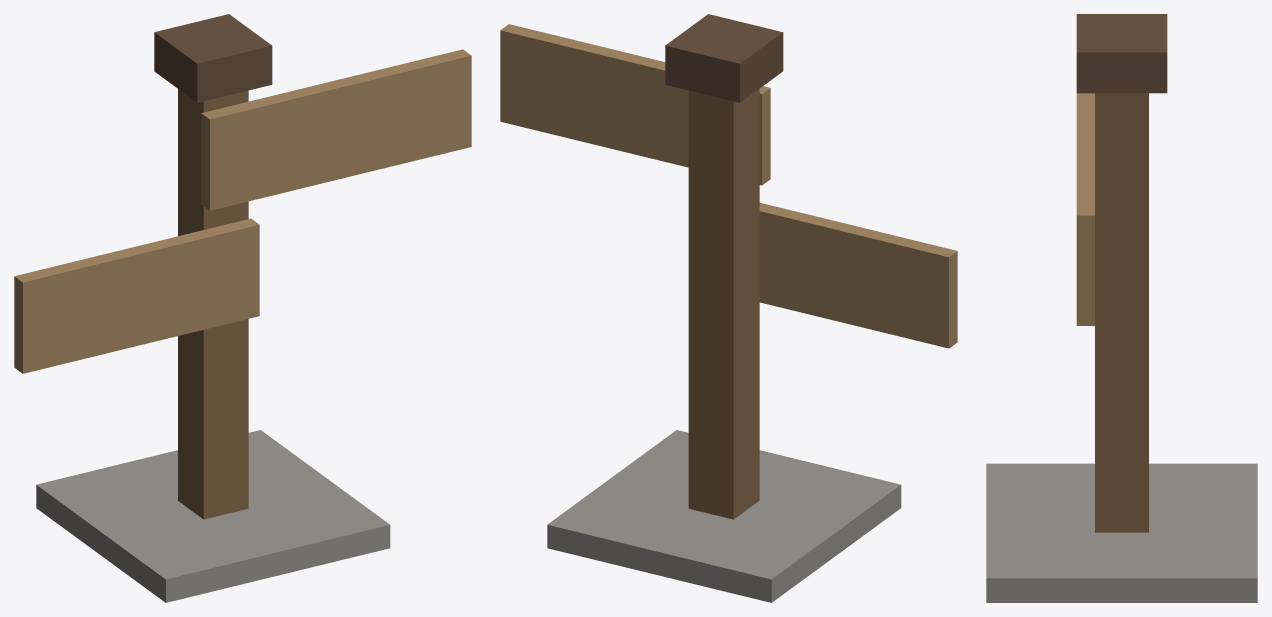
The model's file is signpost.glb.
3 renders of one model, left to right at view 1: azimuth 30°, elevation 25°; view 2: azimuth 150°, elevation 25°; view 3: azimuth 270°, elevation 25°, orthographic. The views are drawn at different scales.
Parts seen in each view (by area): view 1: signpost; view 2: signpost; view 3: signpost.
Boxes of the visible parts, x1=… form: signpost: x1=14, y1=14, x2=471, y2=602; signpost: x1=500, y1=14, x2=957, y2=602; signpost: x1=986, y1=14, x2=1257, y2=602.
Size of the model in its own units: 3.6 by 3.75 by 1.8.
